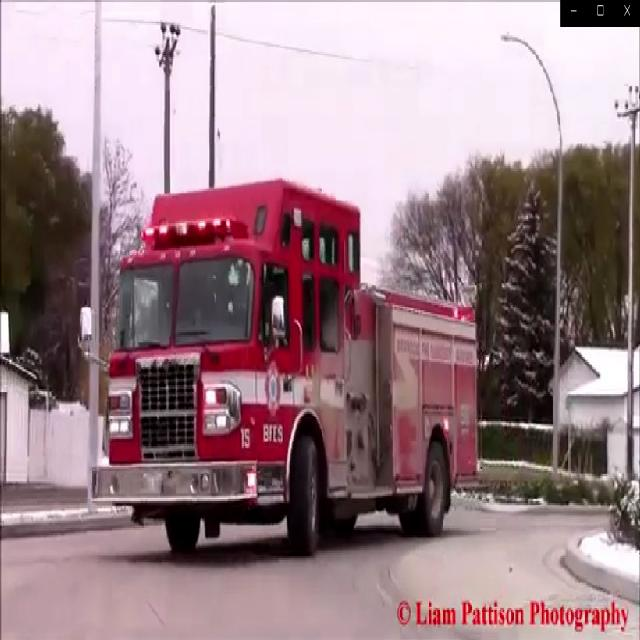emergency: (102, 193, 480, 541)
